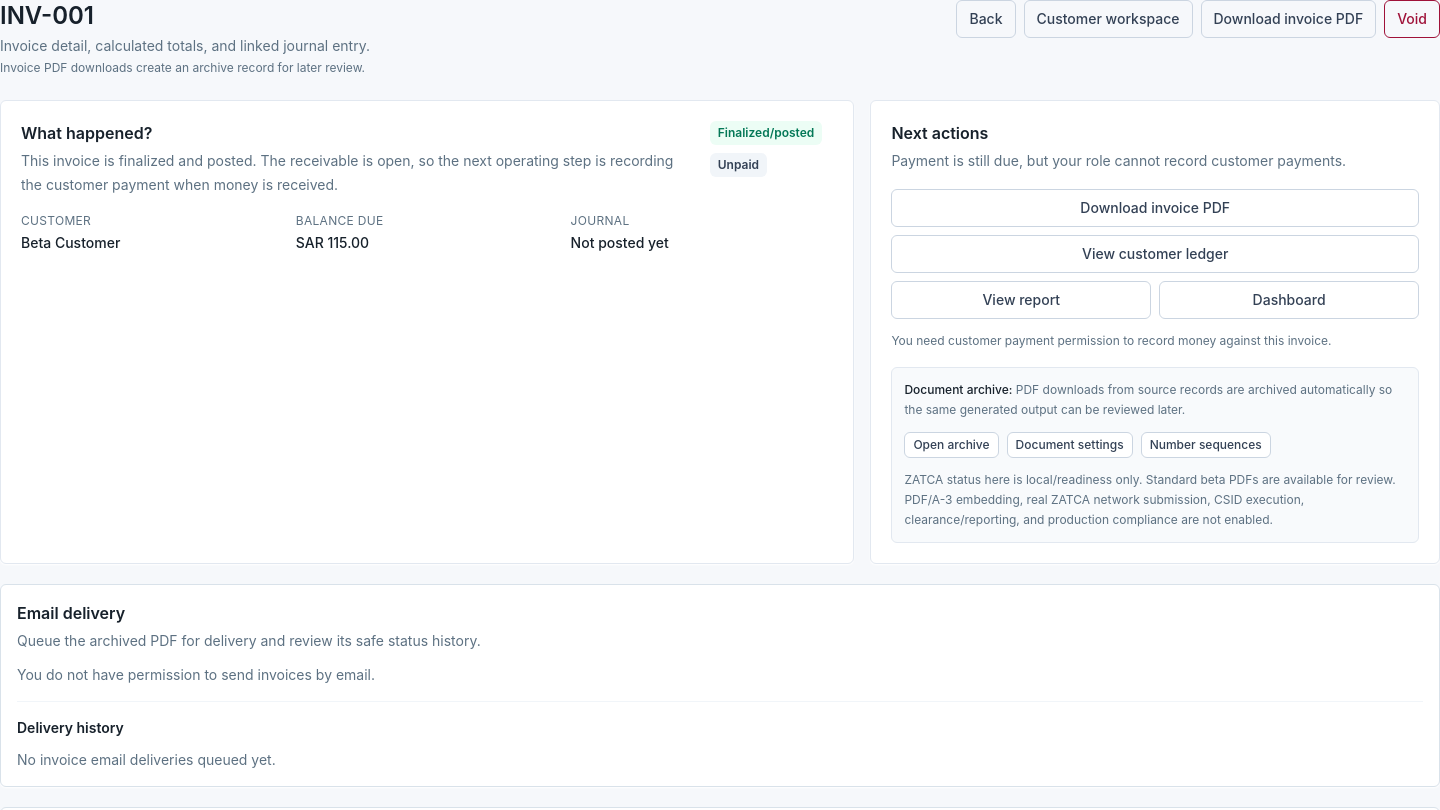
SalesInvoiceDetailPage delivery-note source visibility › opens an in-app confirmation dialog before voiding a finalized invoice
Click the button "Void" at [1412, 19], box [1384,0,1439,38]
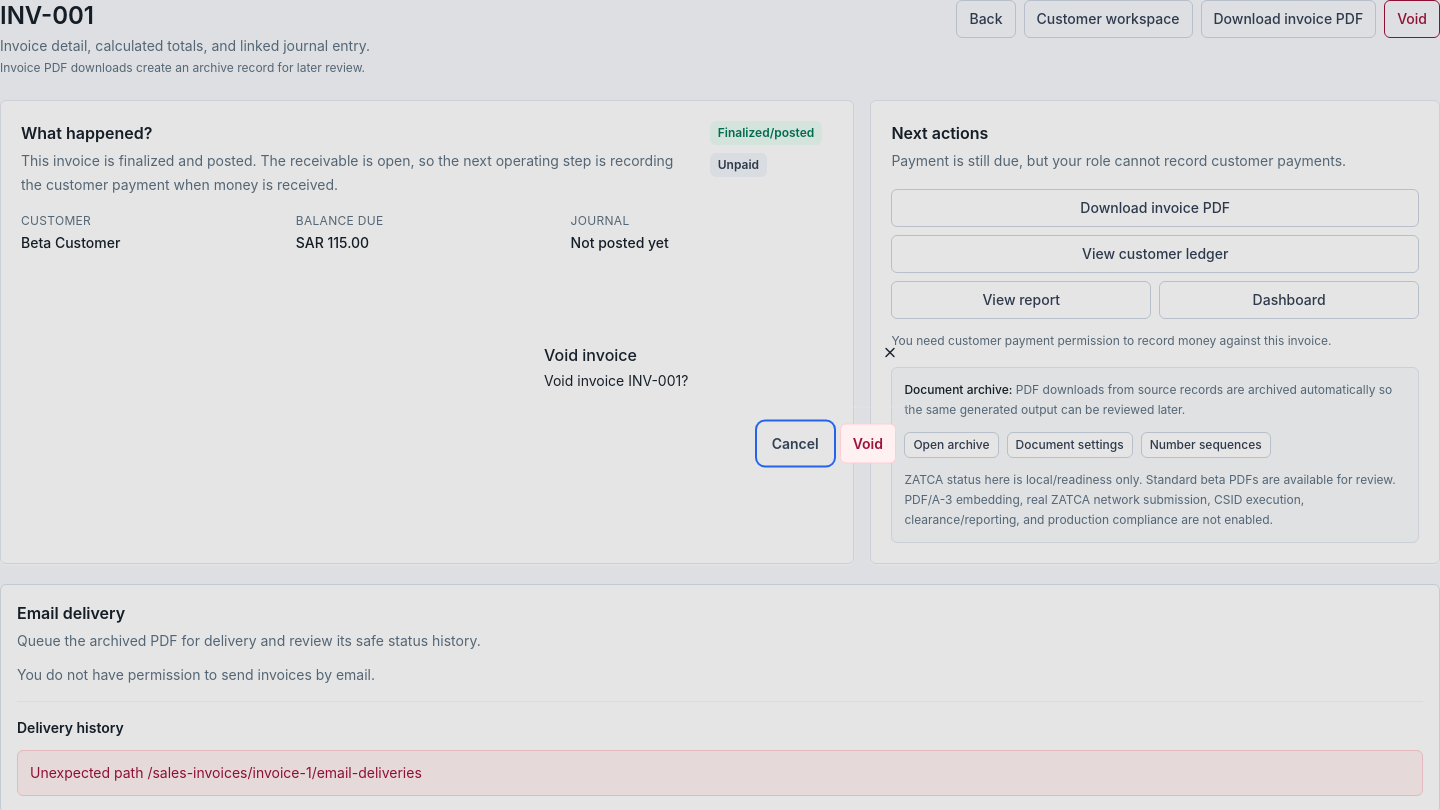
Expected: the dialog is shown, [528,330,912,480]
Expected: the text "Void invoice INV-001?" is shown, [544,372,688,388]
